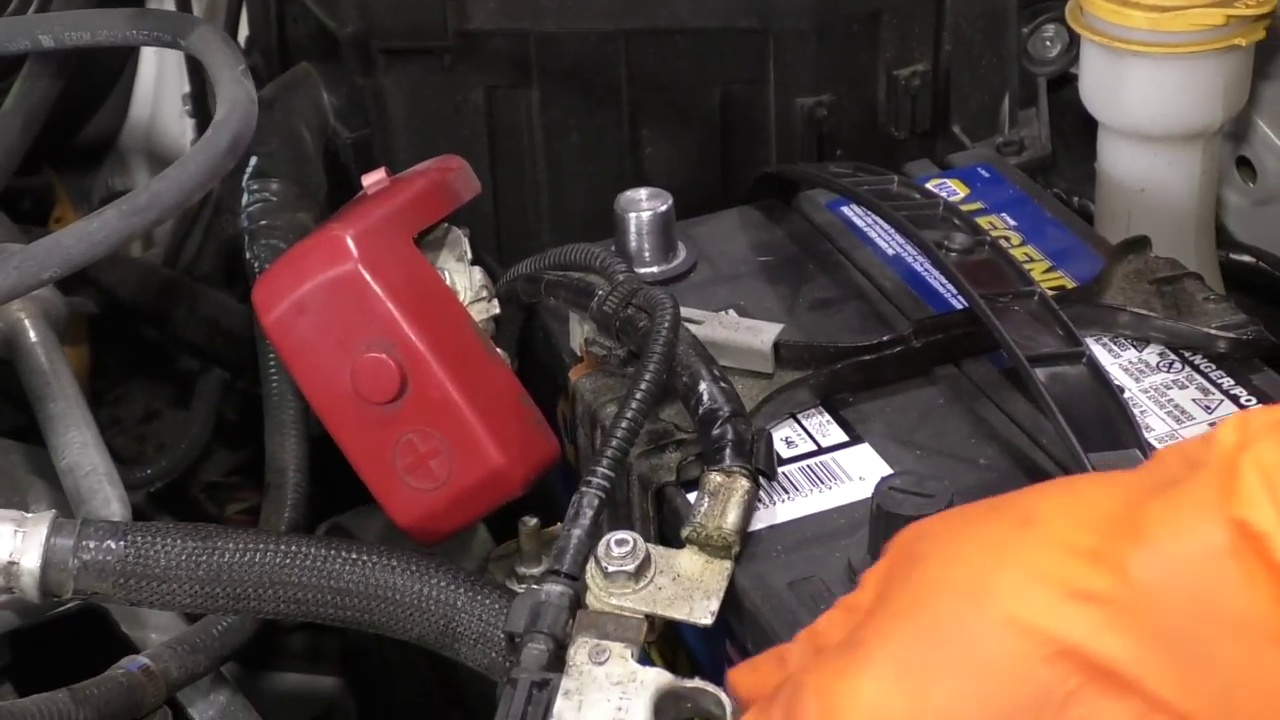battery: (519, 157, 1280, 644)
pos_disconnected: (284, 133, 708, 461)
